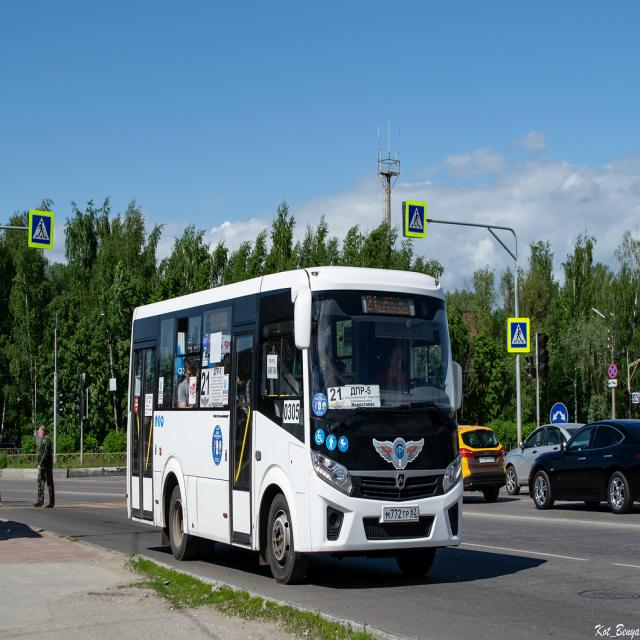number-of-bus: (202, 371, 211, 397), (330, 387, 344, 403)
